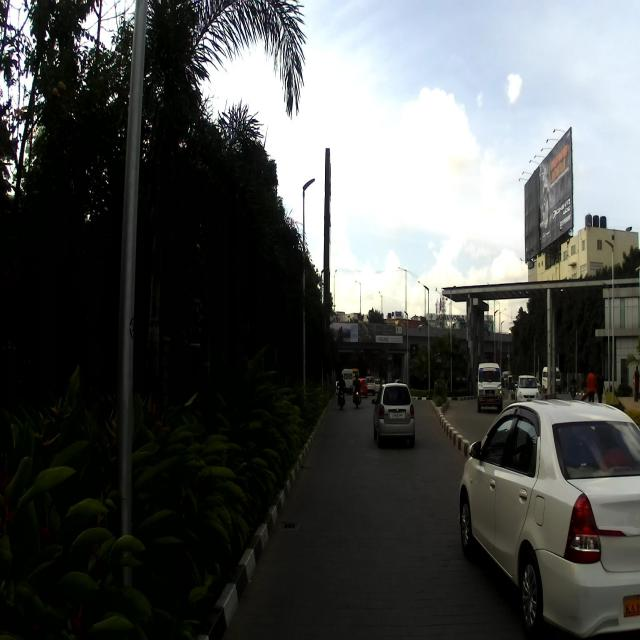Car_Maruti-Suzuki: (370, 378, 416, 450)
Car_Toyota: (456, 401, 639, 637)
